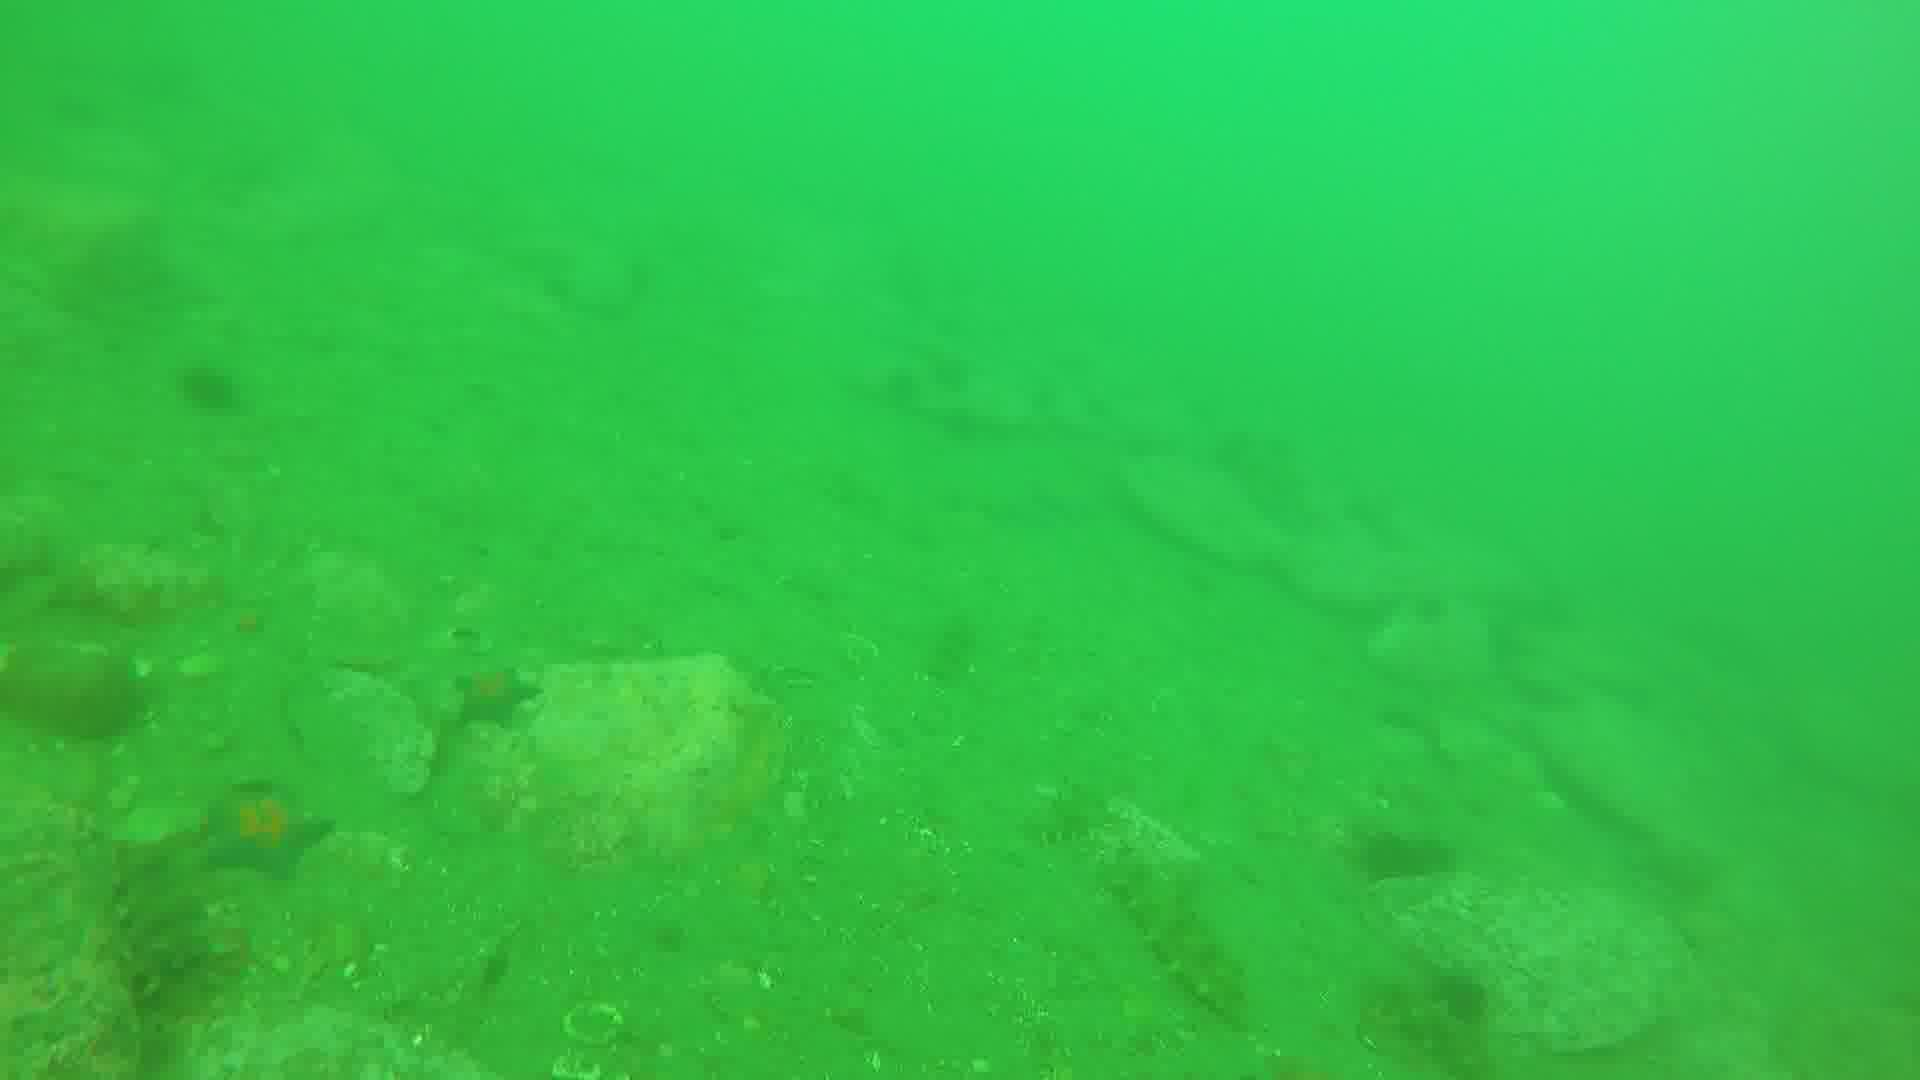echinus: (179, 363, 257, 415), (1373, 824, 1433, 887)
holothurian: (1104, 844, 1262, 1033), (105, 832, 225, 1015), (1027, 789, 1120, 855)
starfish: (206, 789, 342, 878), (454, 666, 538, 732)
